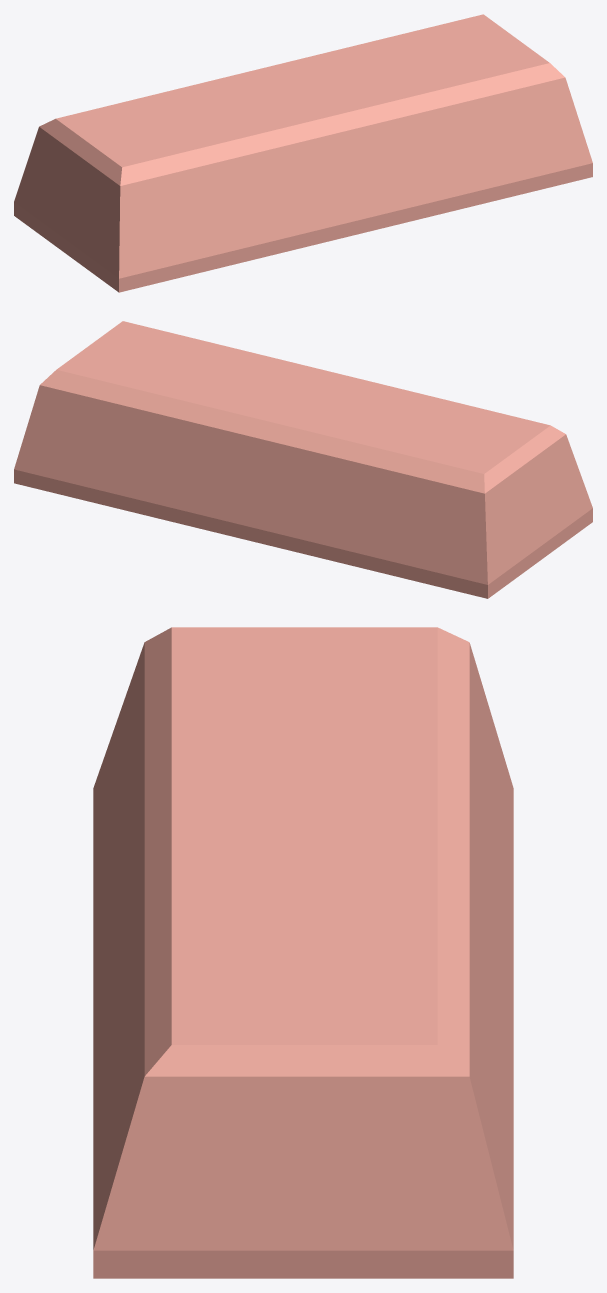
Rendered from cooper-ingot.fbx.
The picture shows the model from 3 angles, top to bottom: view 1: azimuth 30°, elevation 25°; view 2: azimuth 150°, elevation 25°; view 3: azimuth 270°, elevation 25°; orthographic projection. The views are drawn at different scales.
Visible parts, largest first — view 1: ingot; view 2: ingot; view 3: ingot.
Part boxes in pixels (x1,y1,x2,y2): ingot: [14, 14, 592, 292]; ingot: [14, 321, 592, 598]; ingot: [93, 627, 513, 1278].
Bounding box in the file's own units: 521 × 111 × 200.
